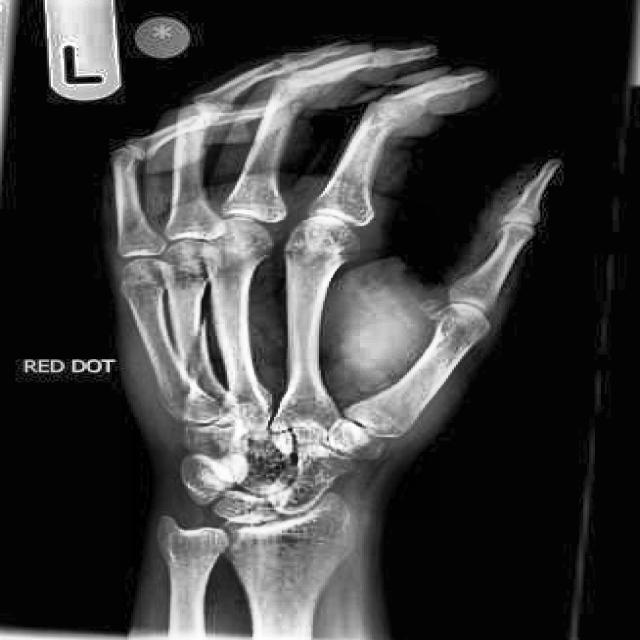fracture: (184, 314, 209, 388), (323, 40, 350, 58)
